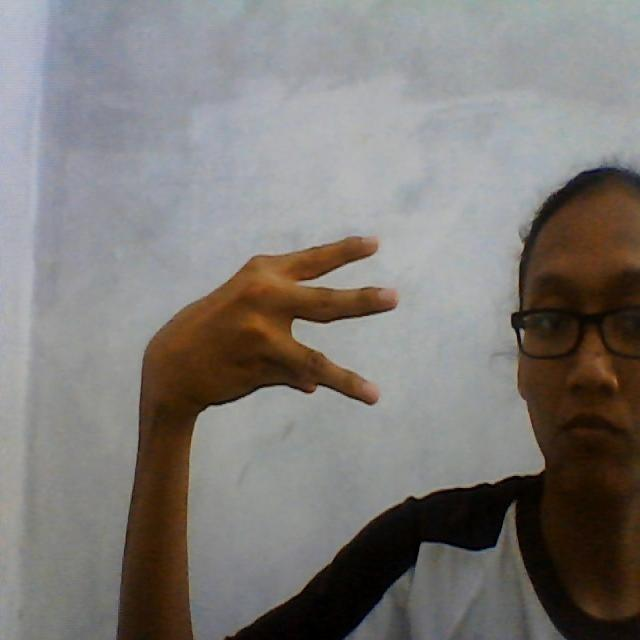E: (124, 222, 408, 426)
